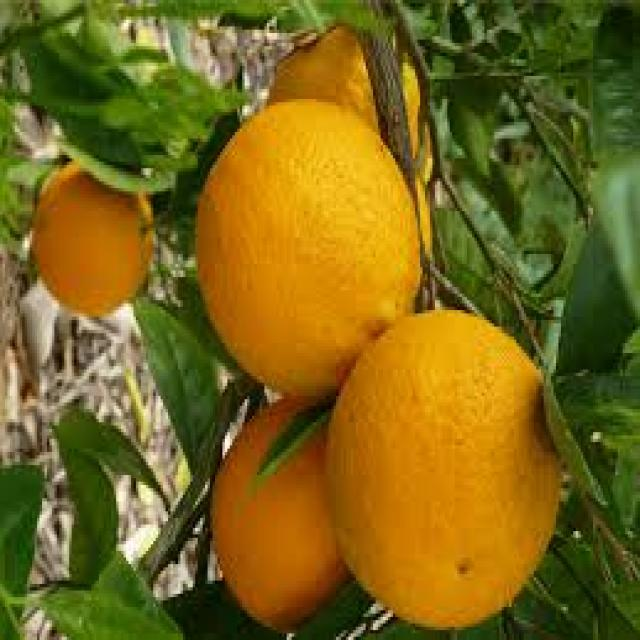orange: (329, 310, 557, 625), (192, 94, 423, 403), (209, 388, 351, 630), (270, 22, 423, 164), (30, 162, 154, 316)
